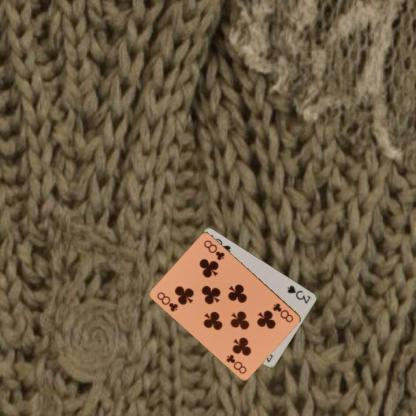3s: (285, 282, 312, 304)
8c: (270, 300, 294, 324), (155, 290, 180, 312)
